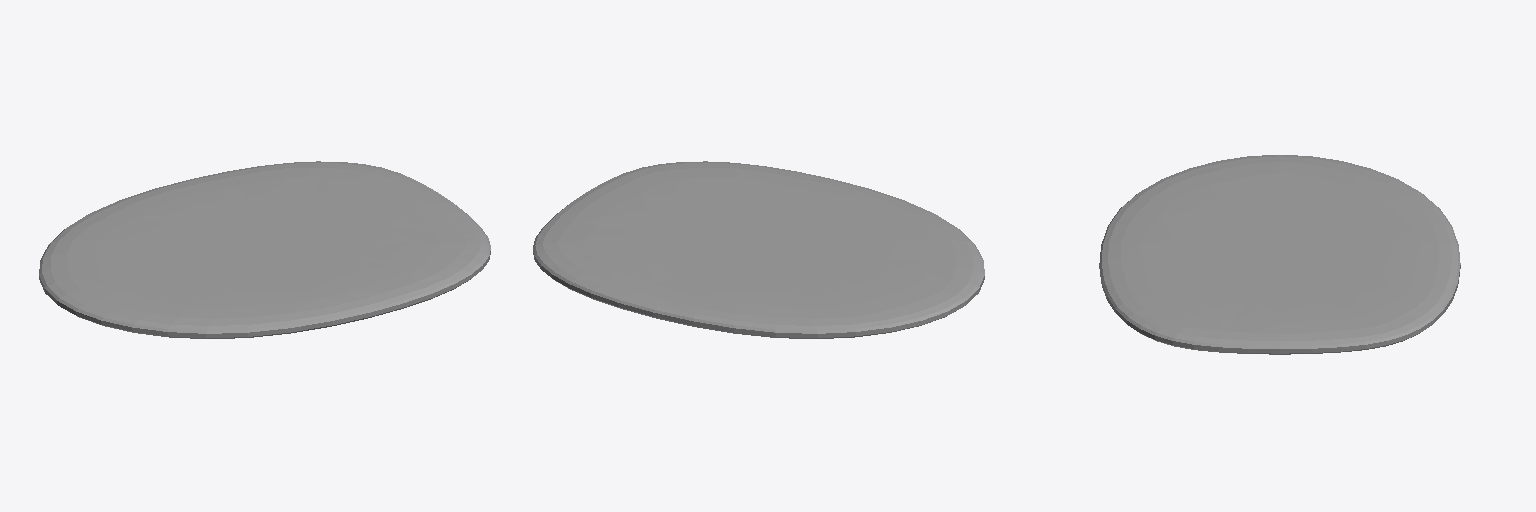
File: ToiletLid2.obj
The picture shows the model from 3 angles: view 1: azimuth 30°, elevation 25°; view 2: azimuth 150°, elevation 25°; view 3: azimuth 270°, elevation 25°; orthographic projection.
Parts seen in each view (by area): view 1: Plane.158_Plane.199; view 2: Plane.158_Plane.199; view 3: Plane.158_Plane.199.
Part boxes in pixels (bbox=[...]): Plane.158_Plane.199: bbox=[39, 161, 490, 338]; Plane.158_Plane.199: bbox=[533, 161, 984, 338]; Plane.158_Plane.199: bbox=[1099, 155, 1460, 354].
Size of the model in its own units: 1.71 by 0.0817 by 1.35.